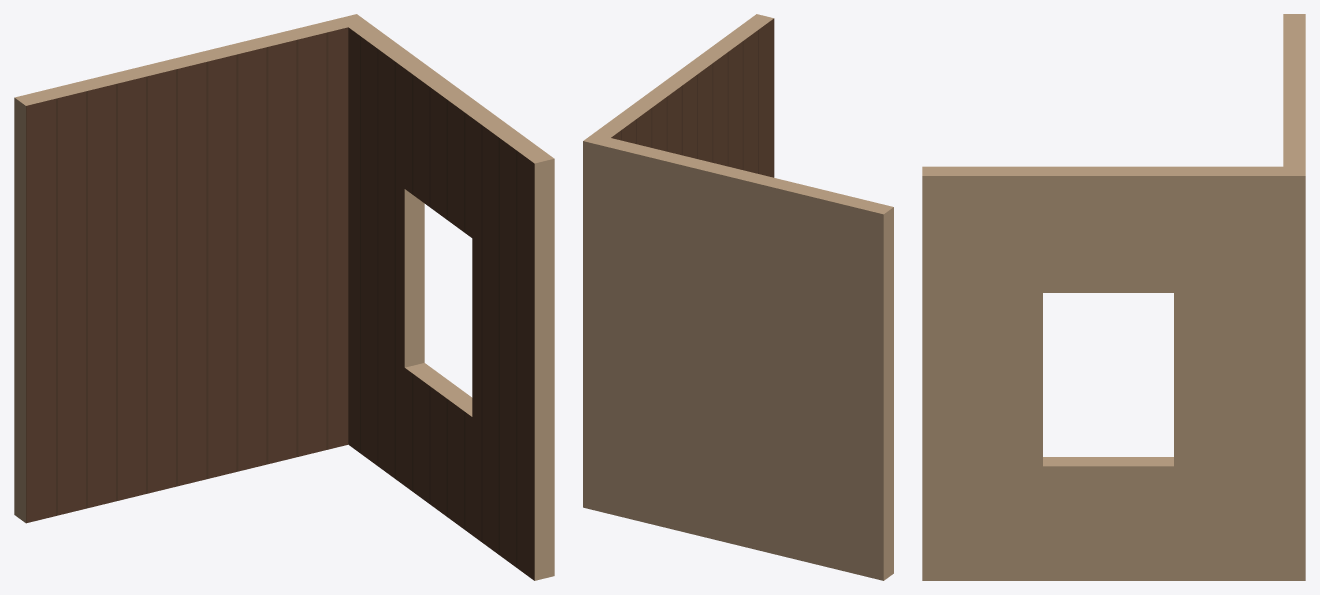
File: Wall3_C9_08.fbx
The picture shows the model from 3 angles, left to right: view 1: azimuth 30°, elevation 25°; view 2: azimuth 150°, elevation 25°; view 3: azimuth 270°, elevation 25°; orthographic projection. The views are drawn at different scales.
Visible parts, largest first — view 1: Wall3_C9_08; view 2: Wall3_C9_08; view 3: Wall3_C9_08.
Part boxes in pixels (x1,y1,x2,y2): Wall3_C9_08: (14, 14, 554, 580); Wall3_C9_08: (583, 14, 893, 580); Wall3_C9_08: (922, 14, 1305, 580).
Bounding box in the file's own units: 258 × 300 × 258.
